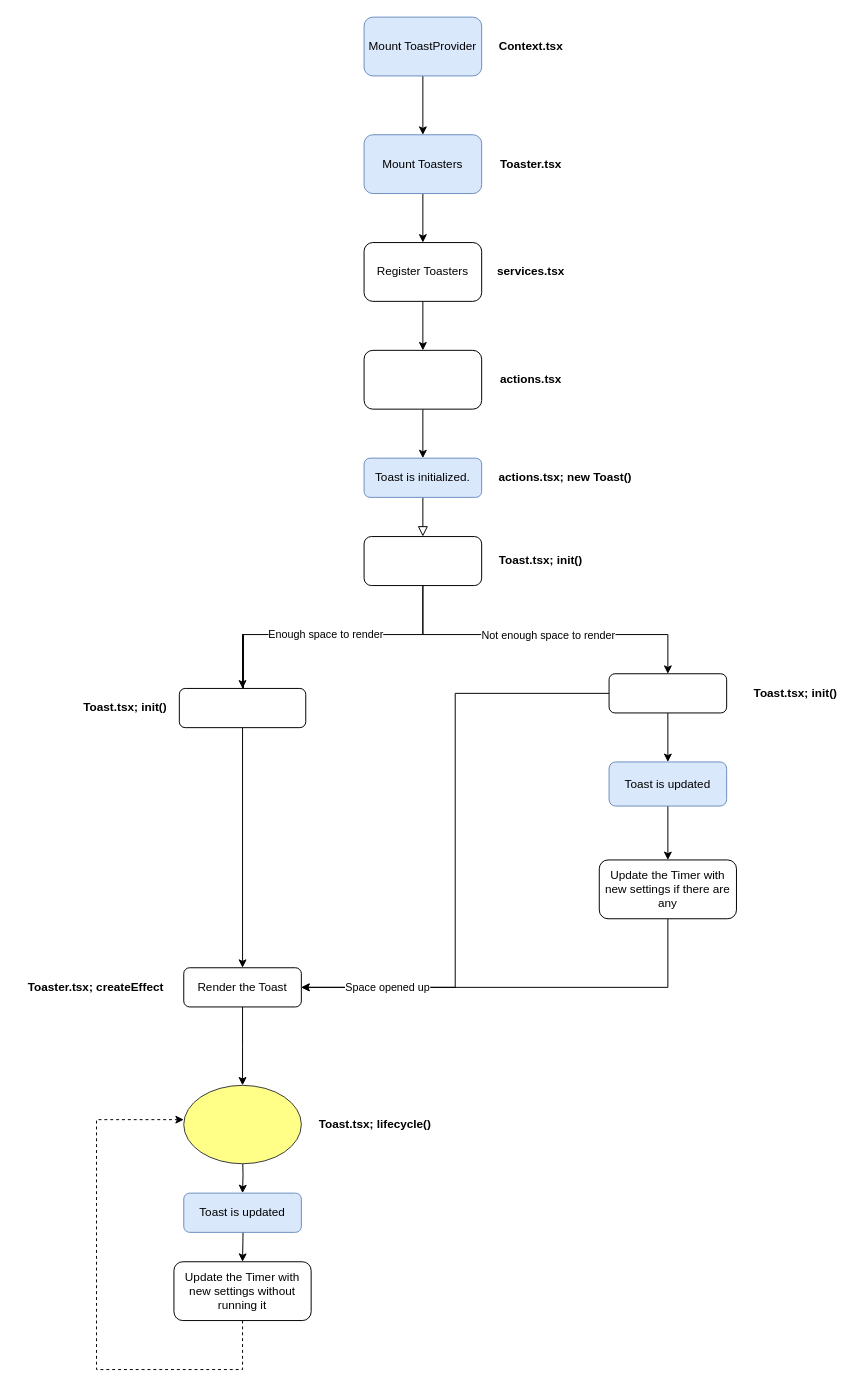
This 865x1395 diagram has some shape labels left out. The shapes that lost their labels are listed below. From the top down, each one's centre as x and y in pixels, then its label:
At [422,379]: "Call toast functions".
At [422,561]: "Create a Timer without running it".
At [242,707]: "Send Toast to Renderer".
At [667,693]: "Send Toast to Queue".
At [242,1124]: "Start the Timer".
